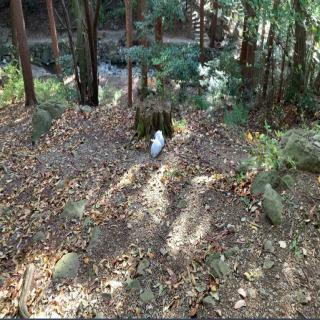Garbage: (150, 137, 162, 160), (154, 129, 166, 149)
